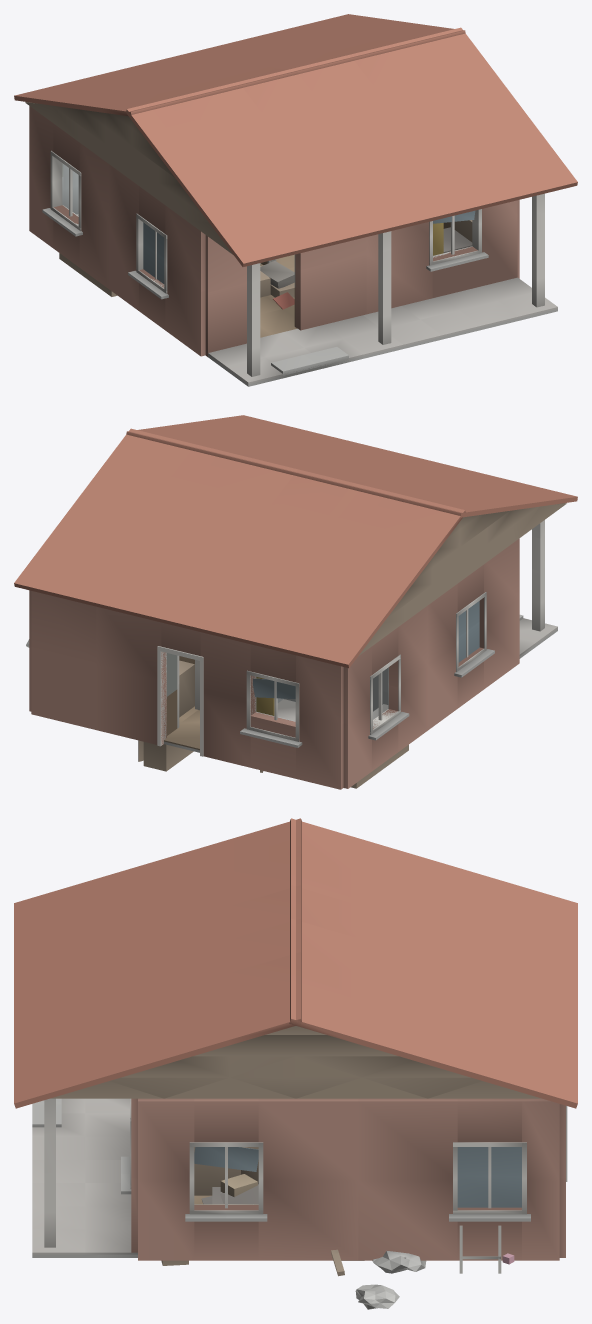
Rendered from casa_r3.glb.
3 renders of one model, top to bottom at view 1: azimuth 30°, elevation 25°; view 2: azimuth 150°, elevation 25°; view 3: azimuth 270°, elevation 25°, orthographic. The views are drawn at different scales.
Visible parts, largest first — view 1: longe, ext, dentro, detalhe, tv_sala, cama_quarto11; view 2: longe, ext, detalhe, dentro, guarda_roupa_quarto2; view 3: longe, ext, detalhe, dentro, guarda_roupa_quarto1, cama_quarto11.
Boxes of the visible parts, x1,y1,x2,y2 form: longe: [14, 14, 577, 266]; ext: [29, 106, 519, 356]; dentro: [62, 163, 557, 386]; detalhe: [42, 150, 544, 376]; tv_sala: [260, 260, 294, 297]; cama_quarto11: [443, 220, 472, 252]; longe: [14, 415, 577, 668]; ext: [29, 538, 519, 789]; detalhe: [26, 520, 544, 756]; dentro: [164, 618, 557, 752]; guarda_roupa_quarto2: [138, 660, 194, 771]; longe: [14, 818, 577, 1108]; ext: [131, 1098, 565, 1260]; detalhe: [32, 1098, 567, 1309]; dentro: [32, 1098, 258, 1257]; guarda_roupa_quarto1: [194, 1147, 258, 1195]; cama_quarto11: [201, 1184, 258, 1204].
Size of what is drawn, in the model's own units: 9.68 by 5.59 by 9.63.
